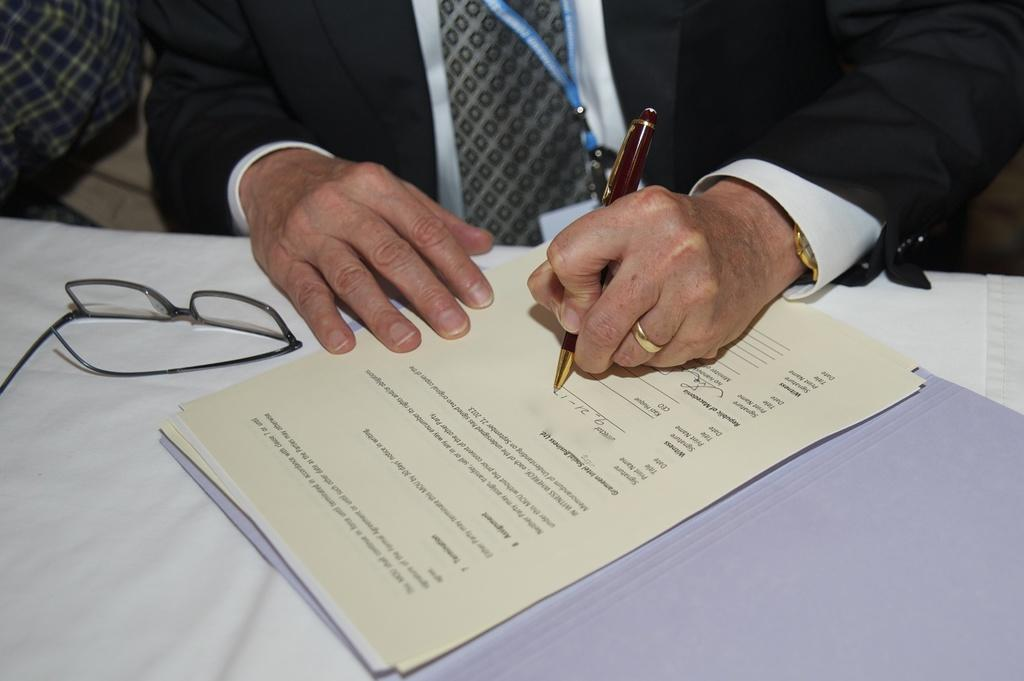pen: (548, 108, 655, 395)
